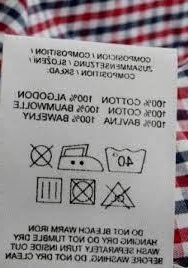40C: (103, 145, 148, 175)
DN_dry_clean: (27, 142, 55, 169)
DN_tumble_dry: (69, 177, 99, 208)
drip_dry: (35, 175, 64, 208)
iron_medium: (57, 144, 104, 174)
non_chlorine_bleach: (101, 182, 136, 211)
